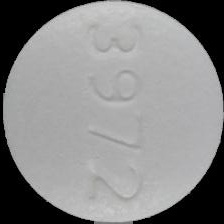61919-306: (0, 0, 224, 224)
